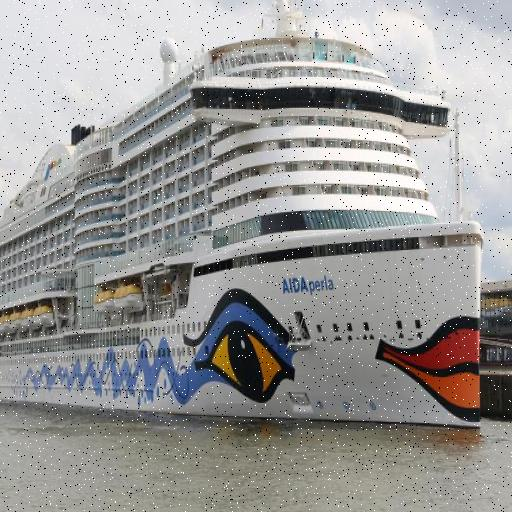cruises: (1, 1, 487, 450)
